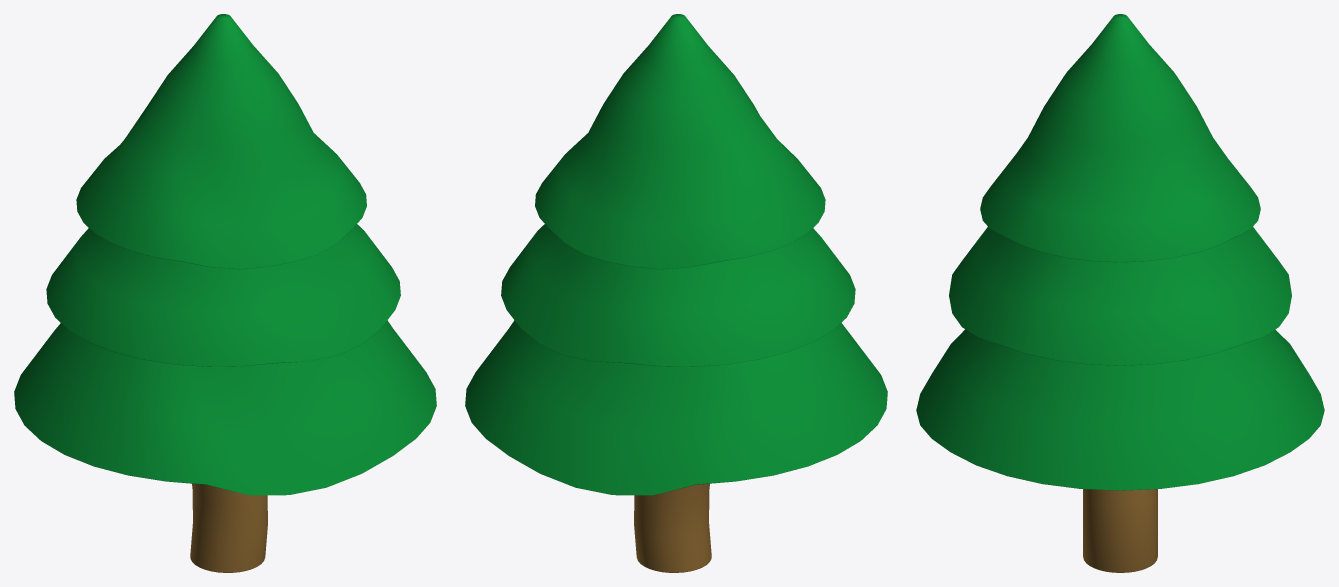
The model's file is Tree.fbx.
3 views of the same model, side by side, from view 1: azimuth 30°, elevation 25°; view 2: azimuth 150°, elevation 25°; view 3: azimuth 270°, elevation 25° (orthographic).
Visible parts, largest first — view 1: Tree; view 2: Tree; view 3: Tree.
Part boxes in pixels (left/top/right/bottom): Tree: left=14, top=14, right=436, bottom=572; Tree: left=465, top=14, right=887, bottom=572; Tree: left=916, top=14, right=1324, bottom=572.
Size of the model in its own units: 262 by 367 by 253.
